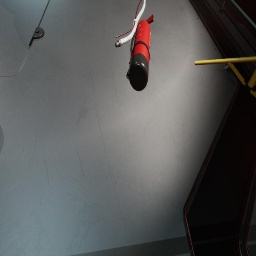FireExtinguisher ]: (126, 14, 154, 91)
